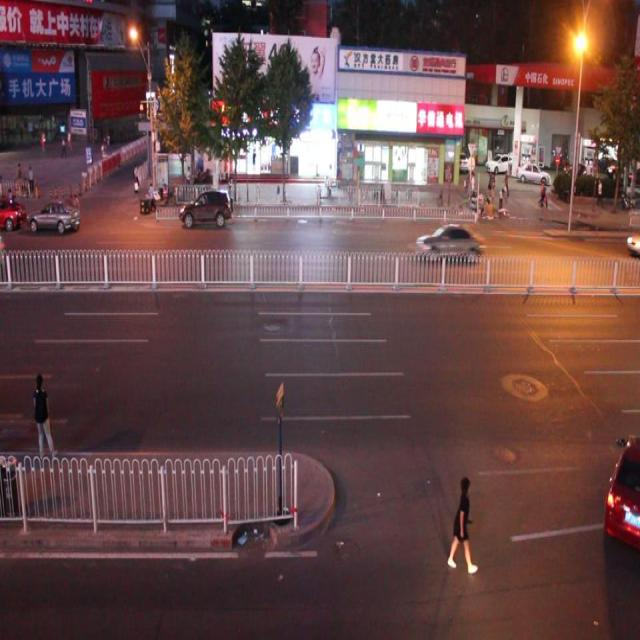car: (604, 432, 640, 551), (415, 222, 484, 266), (177, 185, 232, 227), (26, 196, 81, 237)
